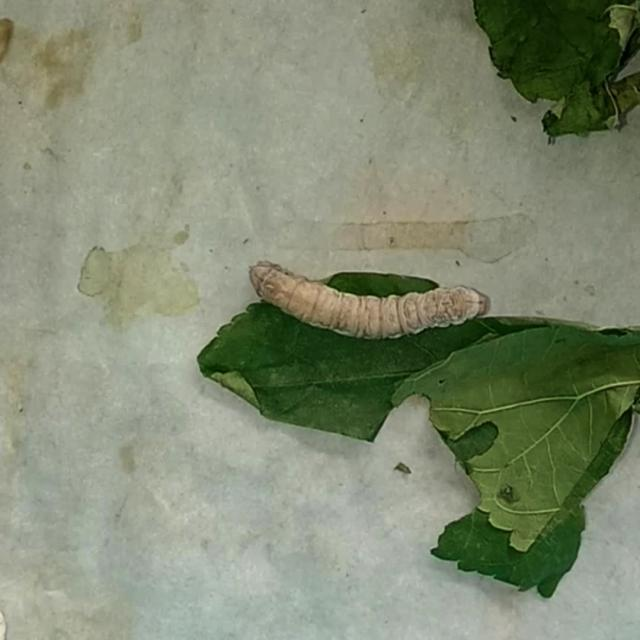Grasserie: (245, 235, 486, 367)
